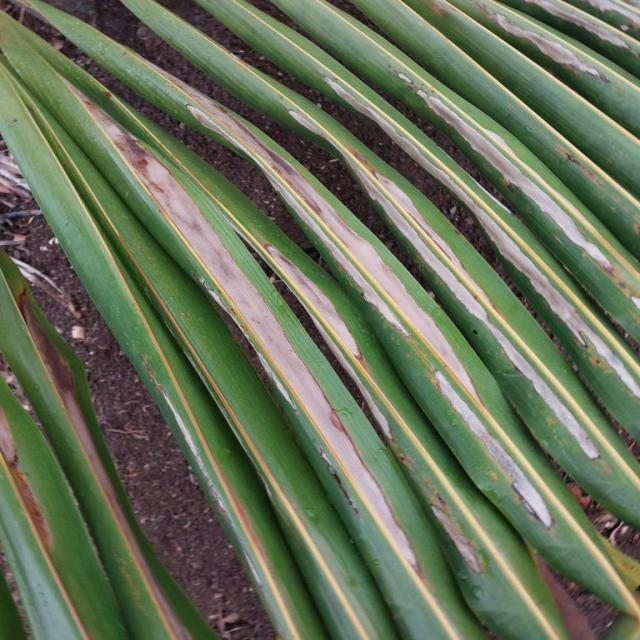gray leaf spot: (92, 66, 633, 609), (435, 1, 639, 114)
